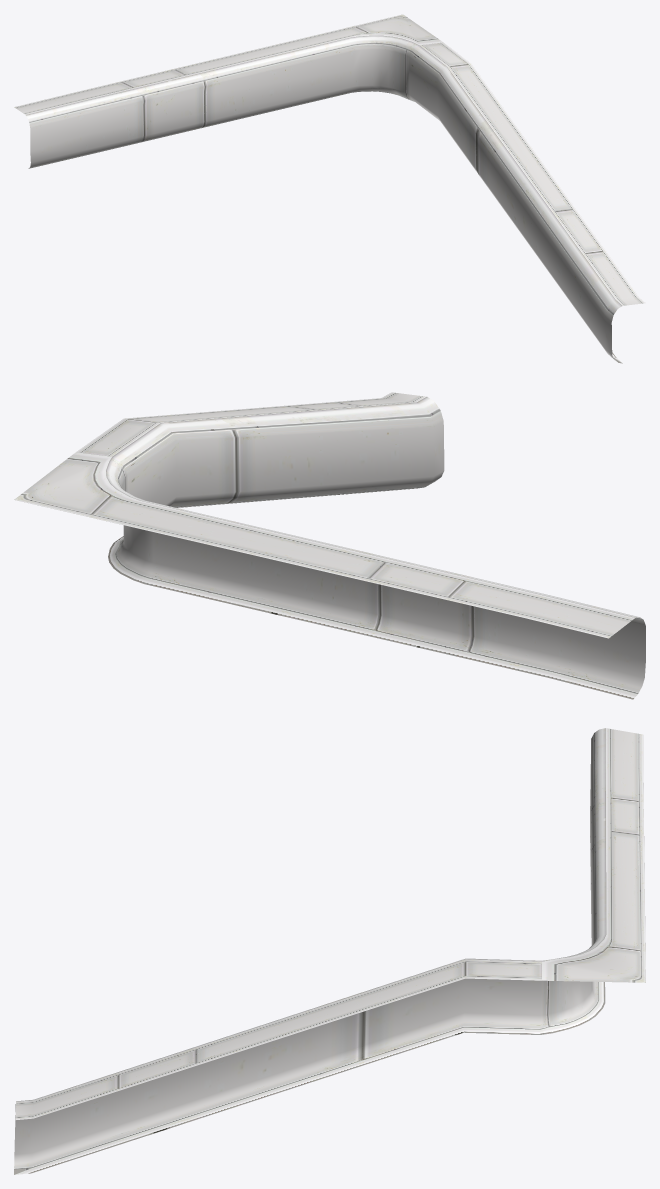
The model's file is STA20_StorecurveB01.FBX.
The picture shows the model from 3 angles, top to bottom: view 1: azimuth 30°, elevation 25°; view 2: azimuth 150°, elevation 25°; view 3: azimuth 270°, elevation 25°; orthographic projection. The views are drawn at different scales.
Parts seen in each view (by area): view 1: STA20_StorecurveB01; view 2: STA20_StorecurveB01; view 3: STA20_StorecurveB01.
Part boxes in pixels (x1=…): STA20_StorecurveB01: x1=14, y1=14, x2=645, y2=363; STA20_StorecurveB01: x1=14, y1=392, x2=645, y2=699; STA20_StorecurveB01: x1=14, y1=728, x2=645, y2=1174.
Size of the model in its own units: 8.42 by 3.46 by 9.12.
